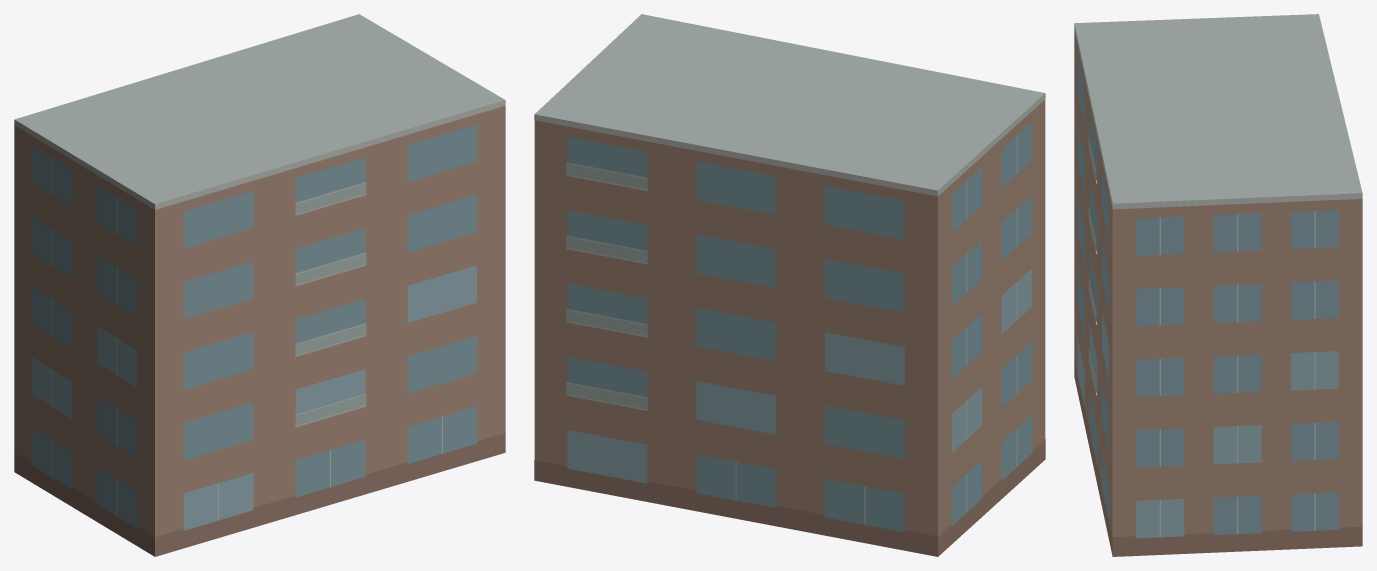
File: survey-upis-32952917.glb
The picture shows the model from 3 angles, left to right: view 1: azimuth 30°, elevation 25°; view 2: azimuth 150°, elevation 25°; view 3: azimuth 270°, elevation 25°; orthographic projection. The views are drawn at different scales.
Visible parts, largest first — view 1: survey-upis-32952917.tmp; view 2: survey-upis-32952917.tmp; view 3: survey-upis-32952917.tmp.
Boxes of the visible parts, <box> form: survey-upis-32952917.tmp: <box>14,14,505,556</box>; survey-upis-32952917.tmp: <box>534,14,1045,556</box>; survey-upis-32952917.tmp: <box>1074,14,1362,556</box>.
Size of the model in its own units: 17.58 by 15.25 by 11.3.
